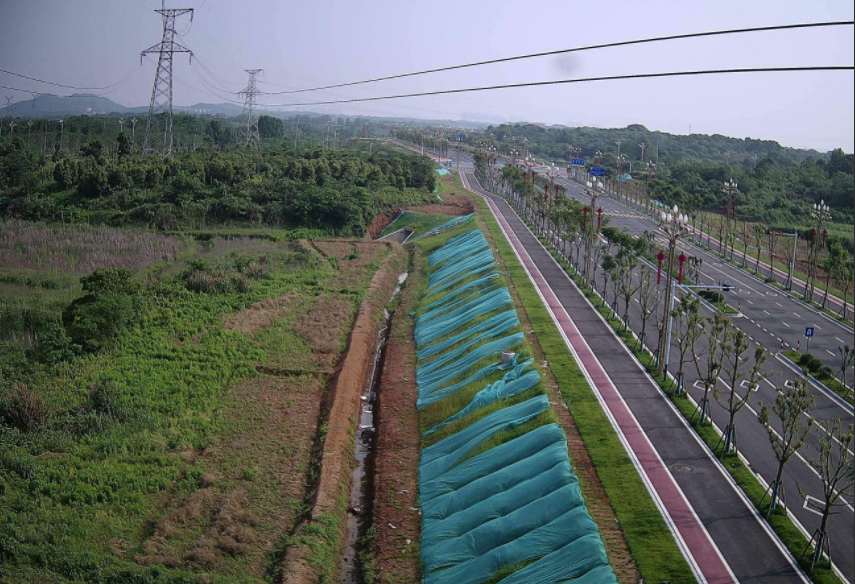绿膜: (413, 228, 622, 584), (423, 211, 476, 236), (727, 233, 776, 255), (689, 216, 718, 231), (649, 199, 670, 210), (434, 167, 451, 175), (615, 173, 632, 181), (436, 194, 443, 201)
